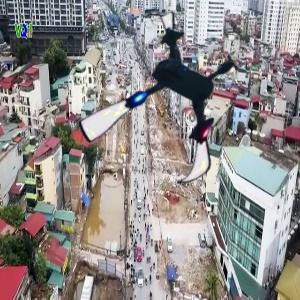drone: (80, 16, 259, 195)
